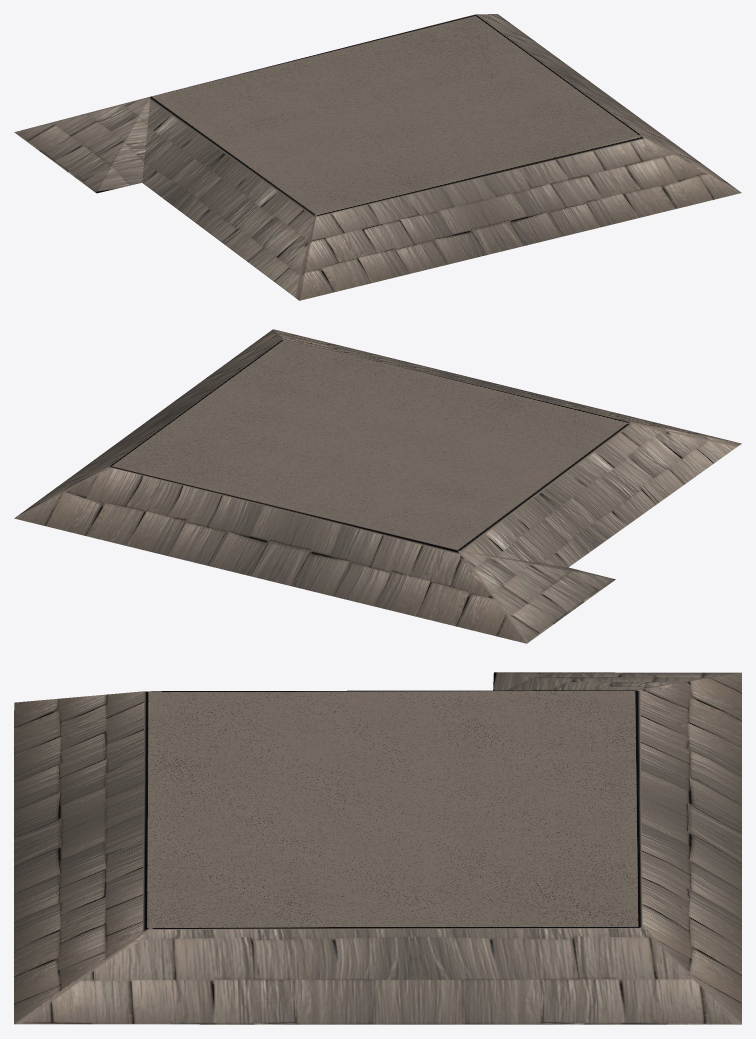
File: roof.glb
3 views of the same model, one above another, from view 1: azimuth 30°, elevation 25°; view 2: azimuth 150°, elevation 25°; view 3: azimuth 270°, elevation 25° (orthographic). The views are drawn at different scales.
Parts seen in each view (by area): view 1: roof.004; view 2: roof.004; view 3: roof.004.
Part boxes in pixels (x1=…): roof.004: x1=14, y1=14, x2=741, y2=300; roof.004: x1=14, y1=329, x2=741, y2=643; roof.004: x1=14, y1=672, x2=741, y2=1024.
Size of the model in its own units: 33.18 by 2.48 by 28.96.
Materials: 3 (1 with a texture image).
